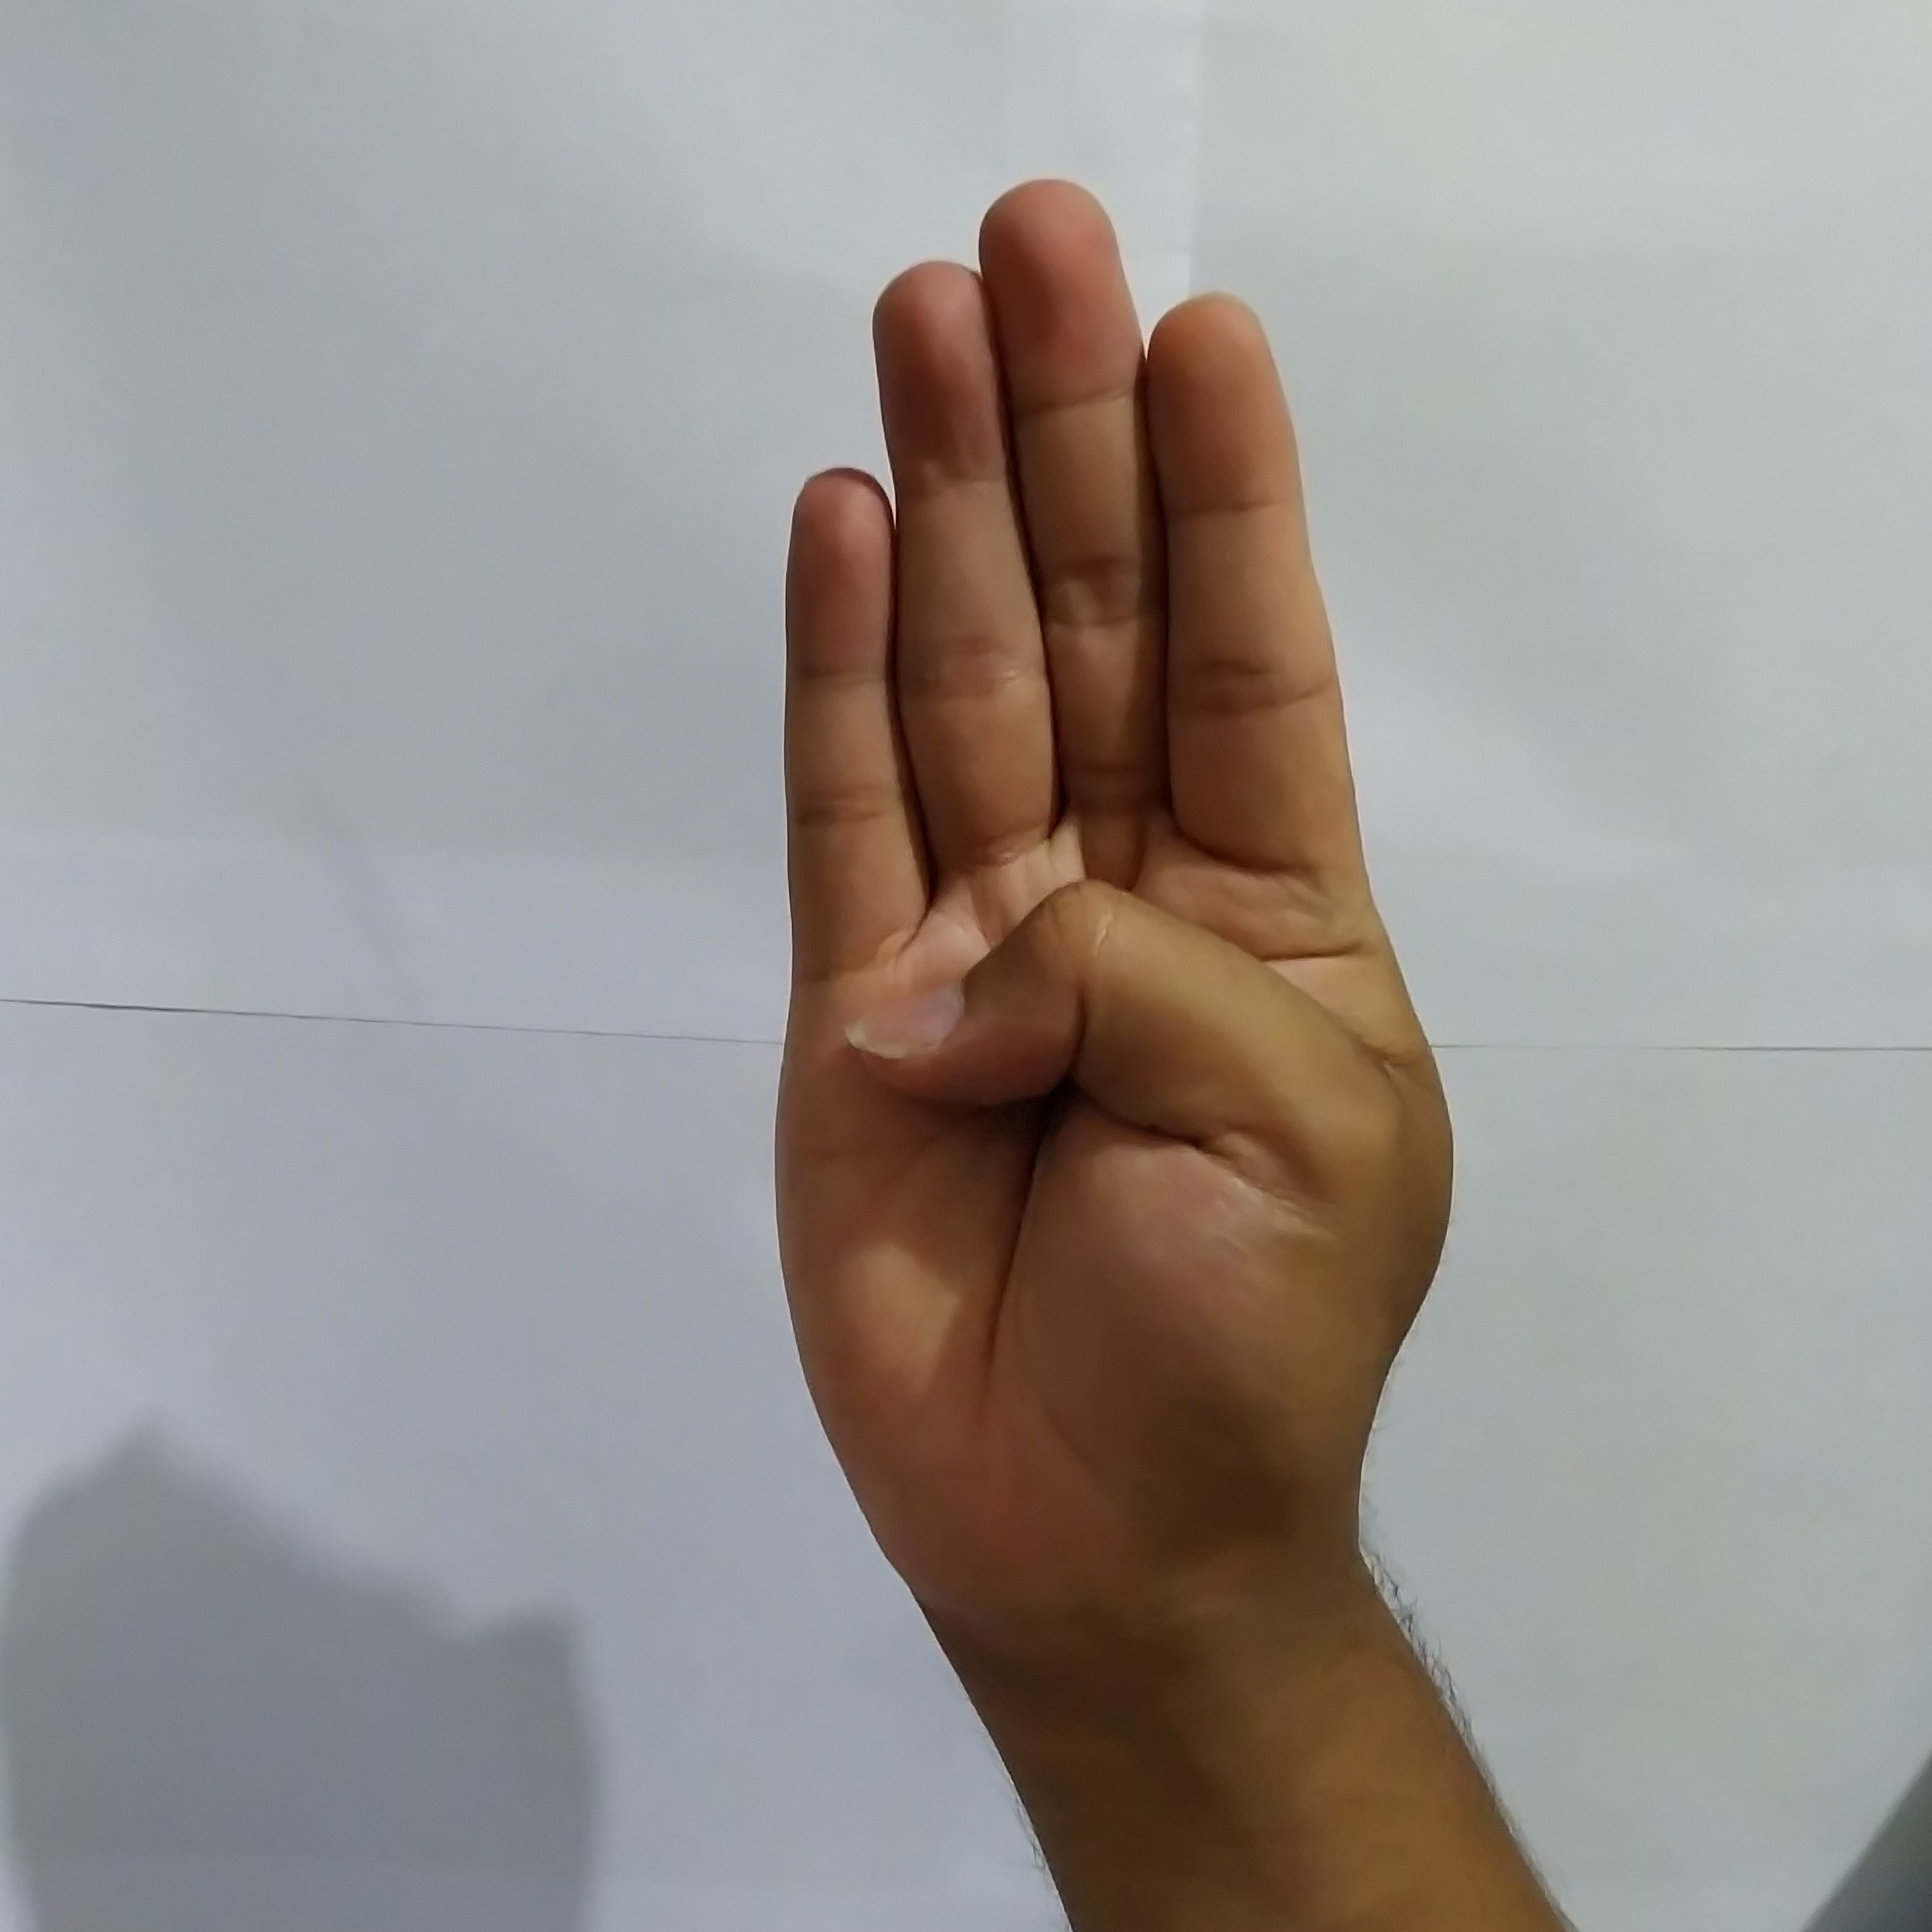B: (755, 159, 1474, 1582)
